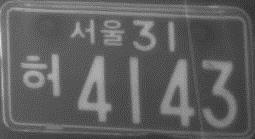1: (121, 53, 145, 126), (165, 19, 179, 55)
3: (200, 57, 240, 131), (130, 15, 160, 53)
4: (159, 54, 195, 126), (76, 53, 112, 121)
서울_O: (68, 15, 128, 50)
허: (19, 52, 65, 98)
